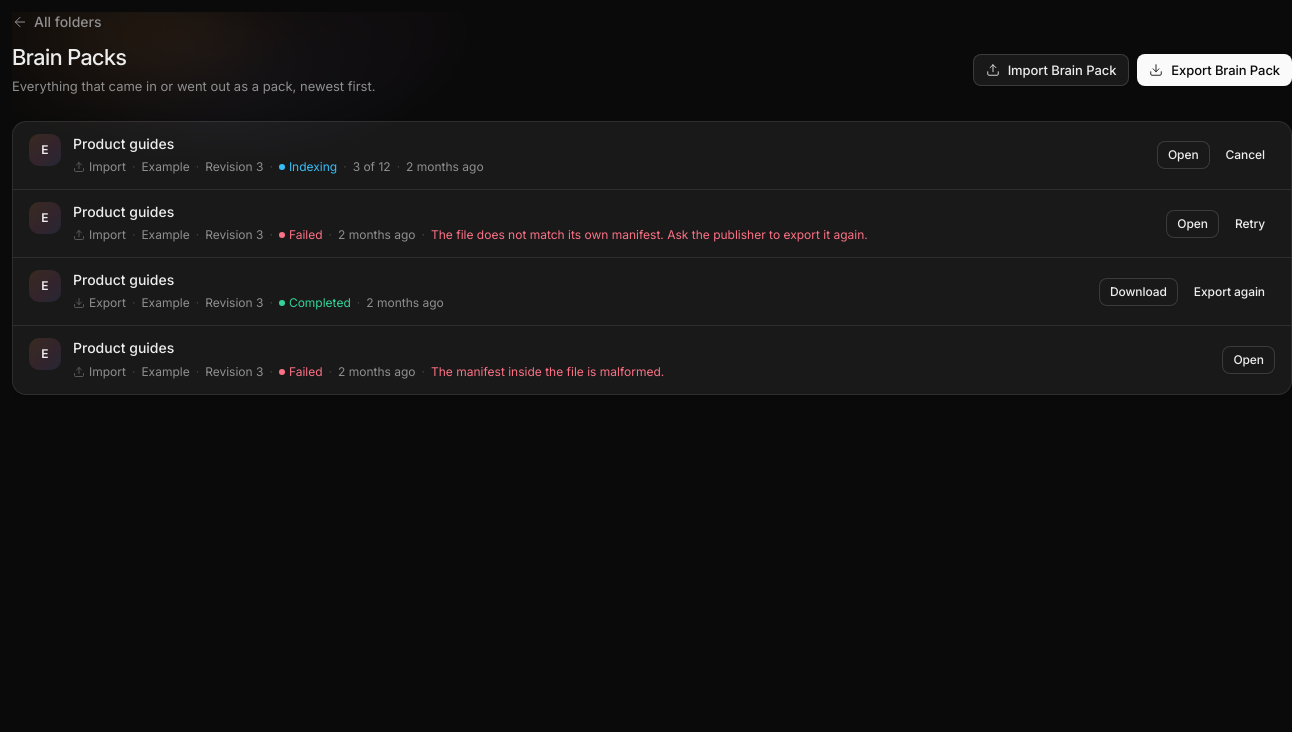
Test: Brain Pack history › lists runs with a toned status, offering Cancel while active and Retry after a failure
Expected: the number of list items is 4, [13, 122, 1291, 190]; [13, 190, 1291, 258]; [13, 258, 1291, 326]; [29, 338, 1275, 379]
Expected: the text "Indexing" is shown, [279, 157, 337, 177]
Click the button "Cancel" at {"x": 1245, "y": 155}, box [1216, 141, 1275, 169]
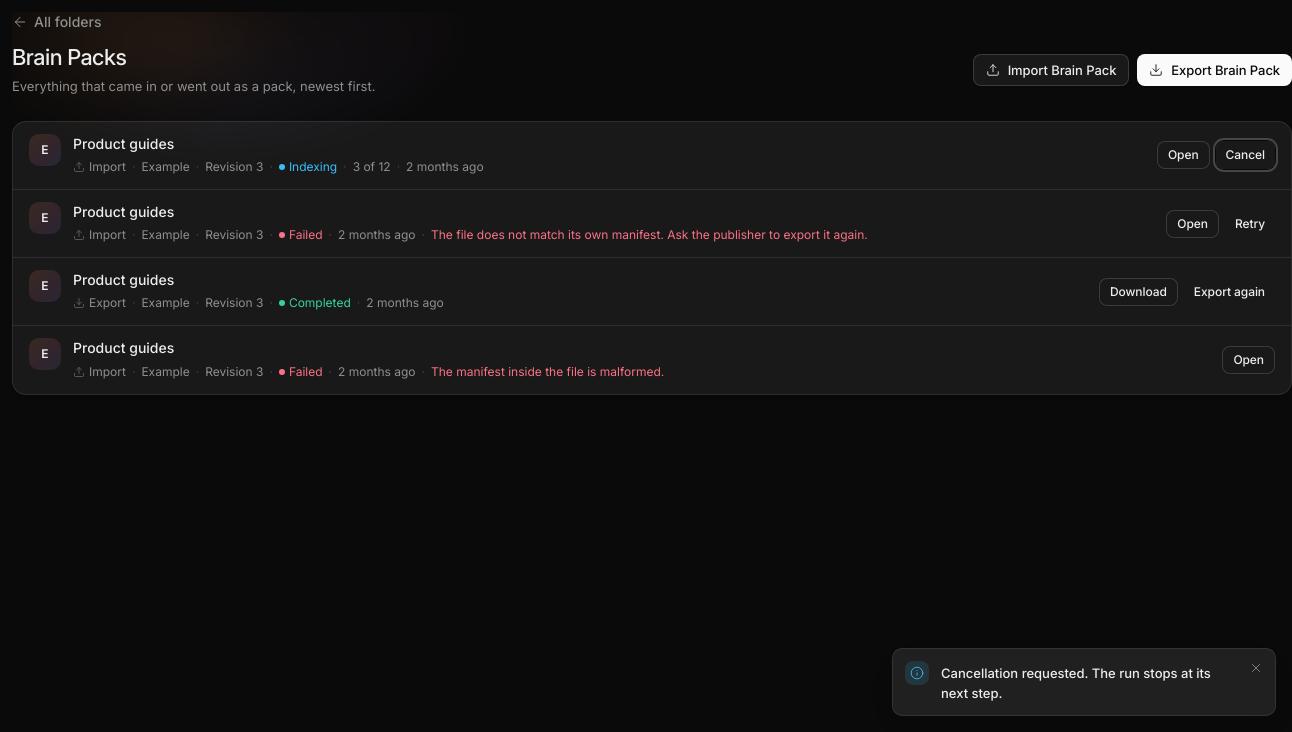
Expected: the text "Cancellation requested. The run stops at its next step." is shown, [941, 663, 1237, 703]
